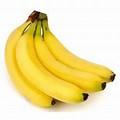banana: (0, 13, 120, 106)
